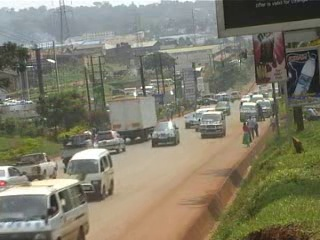Car: (91, 126, 128, 155), (0, 163, 32, 195), (151, 117, 182, 150), (213, 101, 233, 119), (181, 110, 196, 129), (197, 94, 219, 106), (238, 93, 252, 107)
